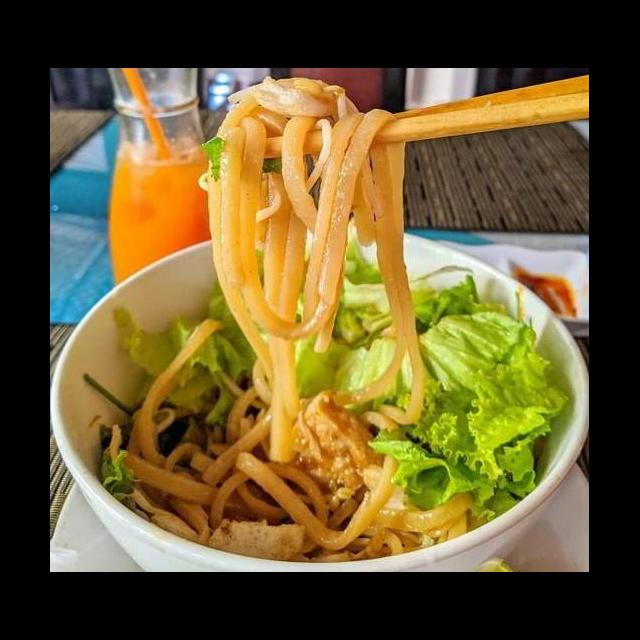banh da: (288, 386, 390, 507)
mi: (198, 71, 430, 466), (123, 316, 476, 566)
mi quang: (53, 108, 588, 572)
